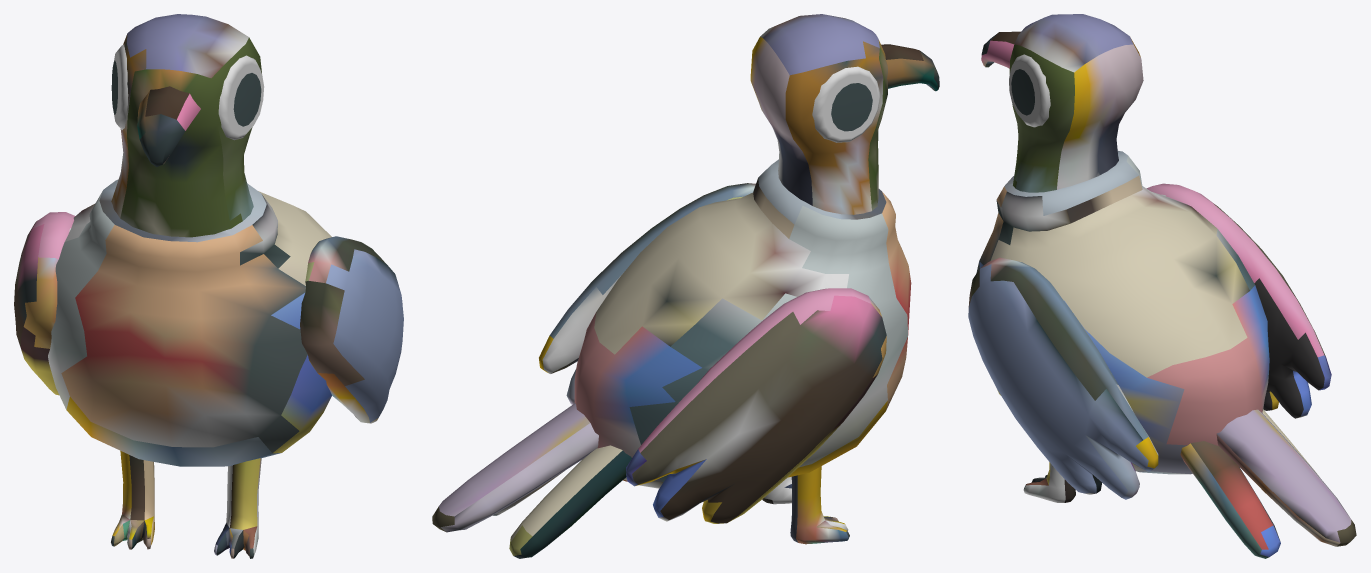
The model's file is Vulture.glb.
3 renders of one model, left to right at view 1: azimuth 30°, elevation 25°; view 2: azimuth 150°, elevation 25°; view 3: azimuth 270°, elevation 25°, orthographic. The views are drawn at different scales.
Visible parts, largest first — view 1: 171; view 2: 171; view 3: 171.
Part boxes in pixels (x1,y1,x2,y2): 171: [14, 14, 403, 558]; 171: [432, 14, 939, 558]; 171: [968, 14, 1356, 558].
Bounding box in the file's own units: 0.6475 × 0.8793 × 0.6788.
